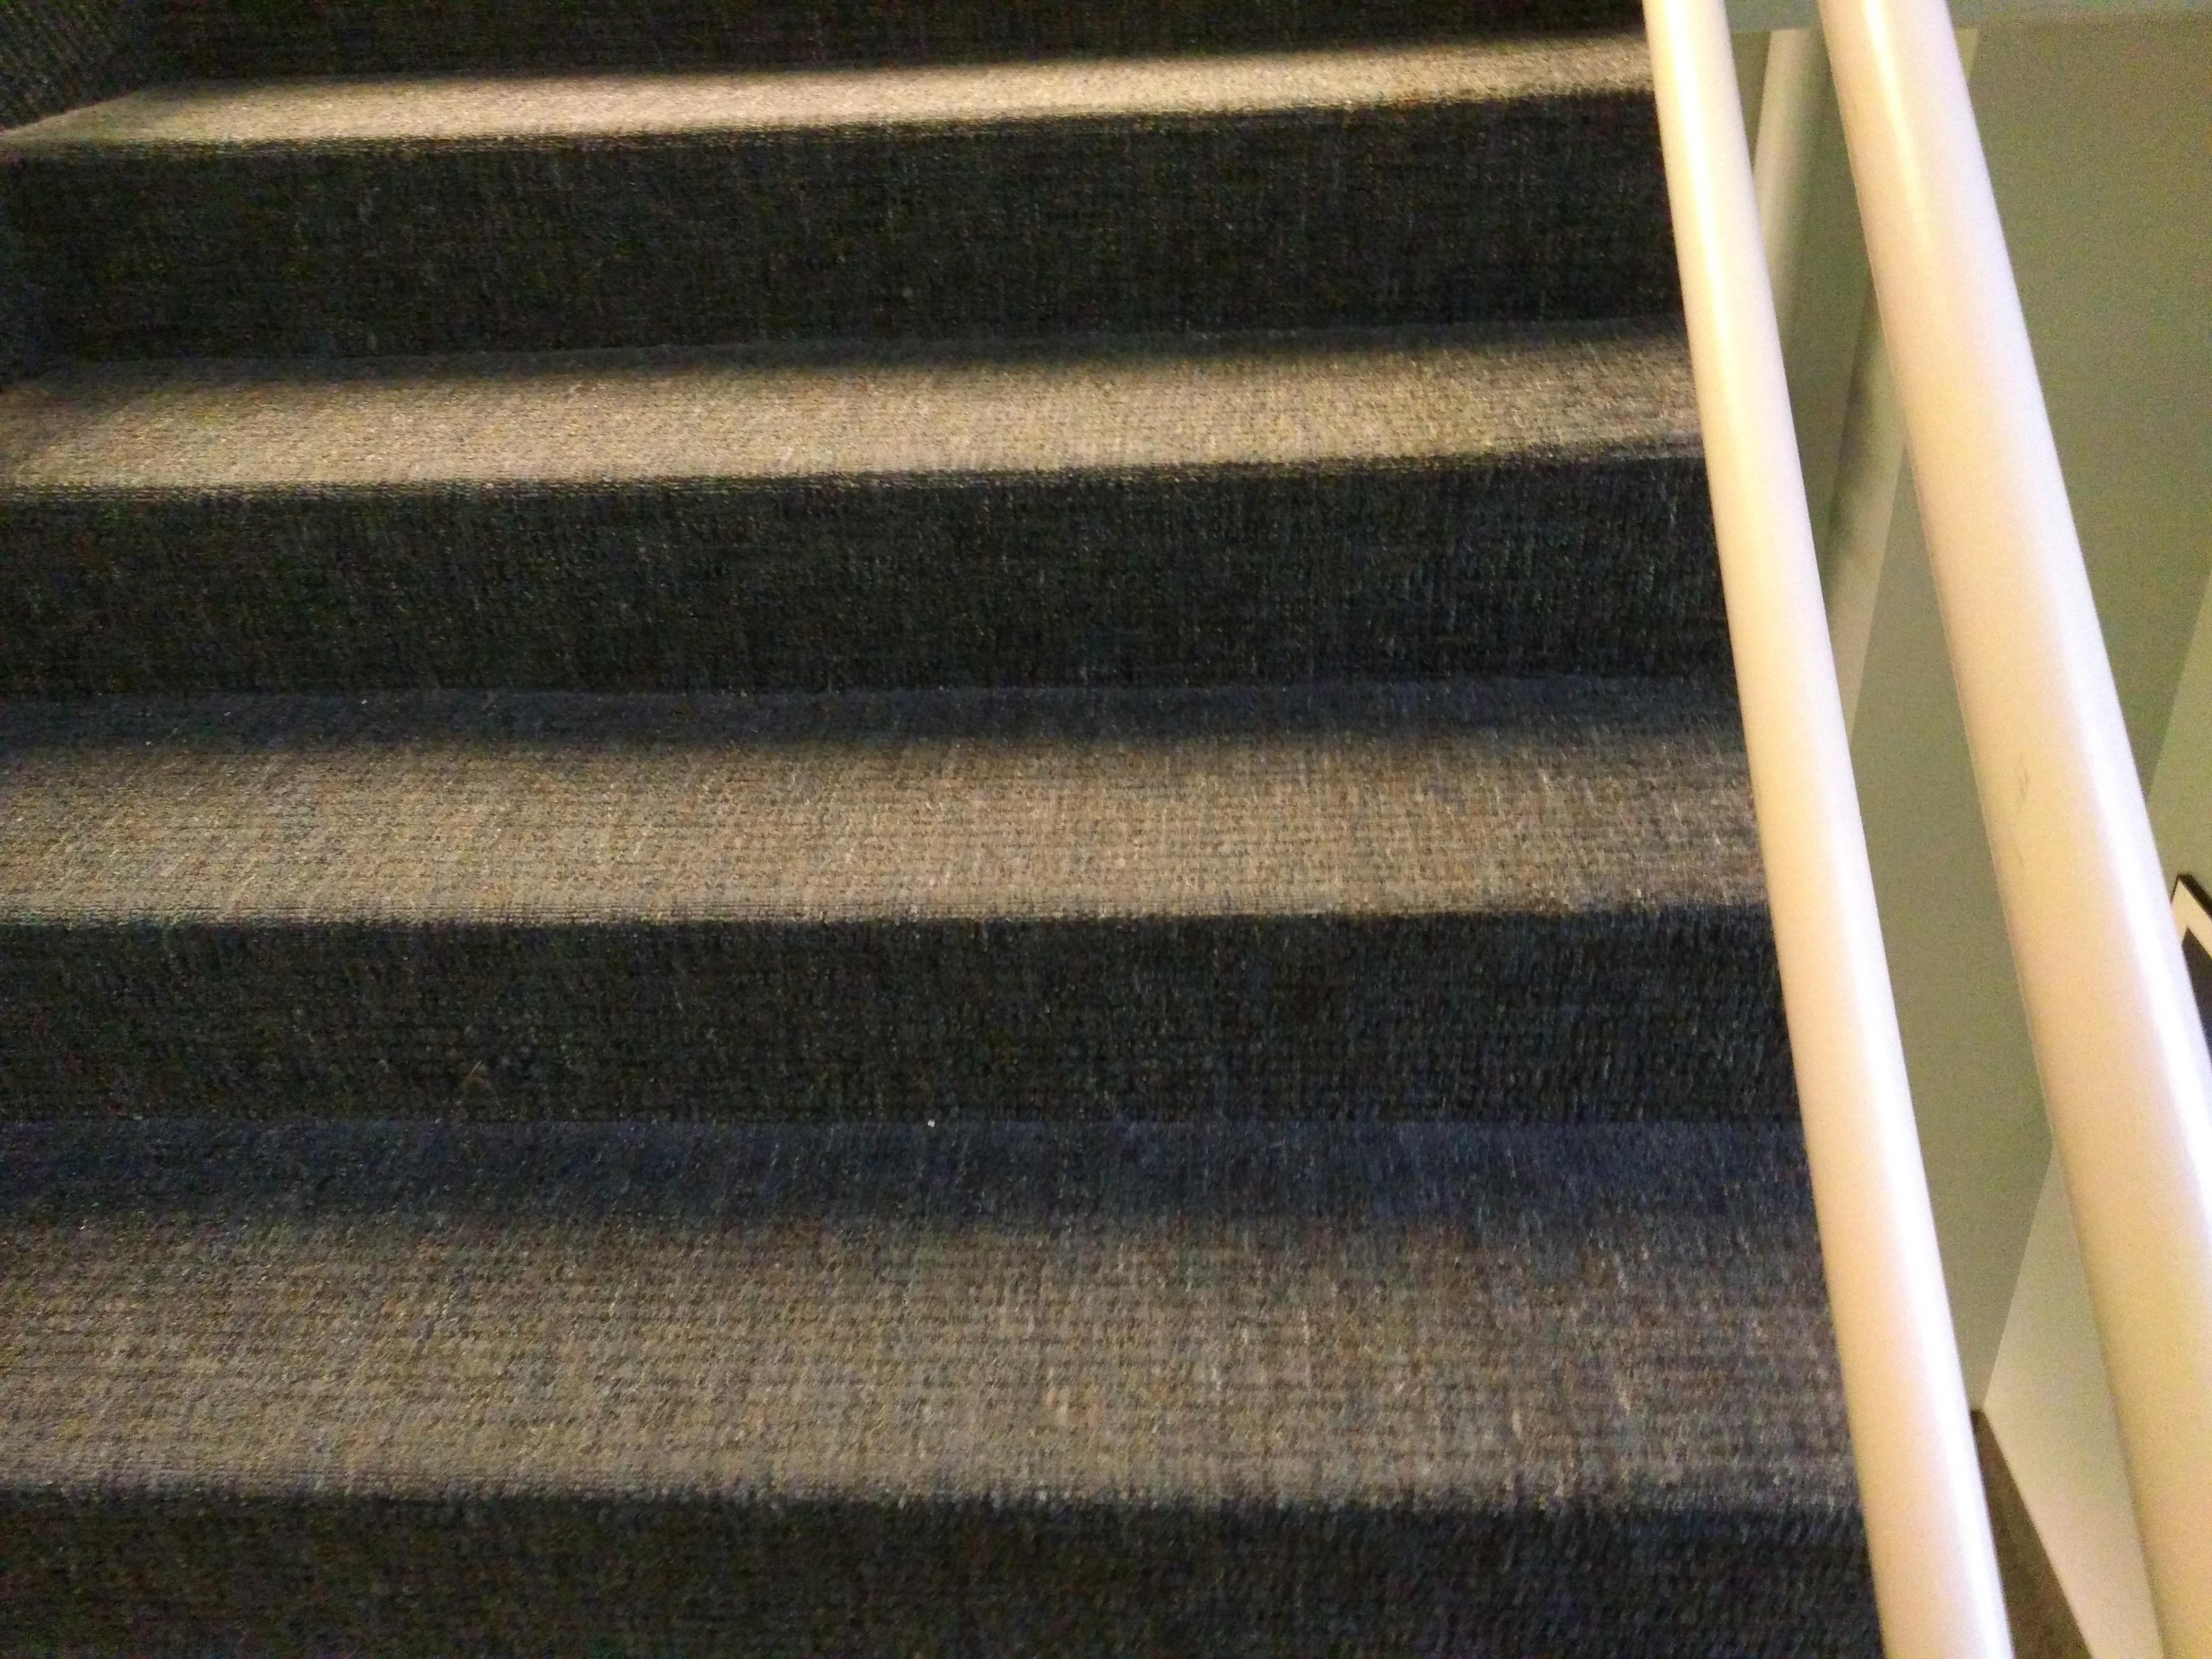stairs_up: (71, 61, 1693, 1596)
